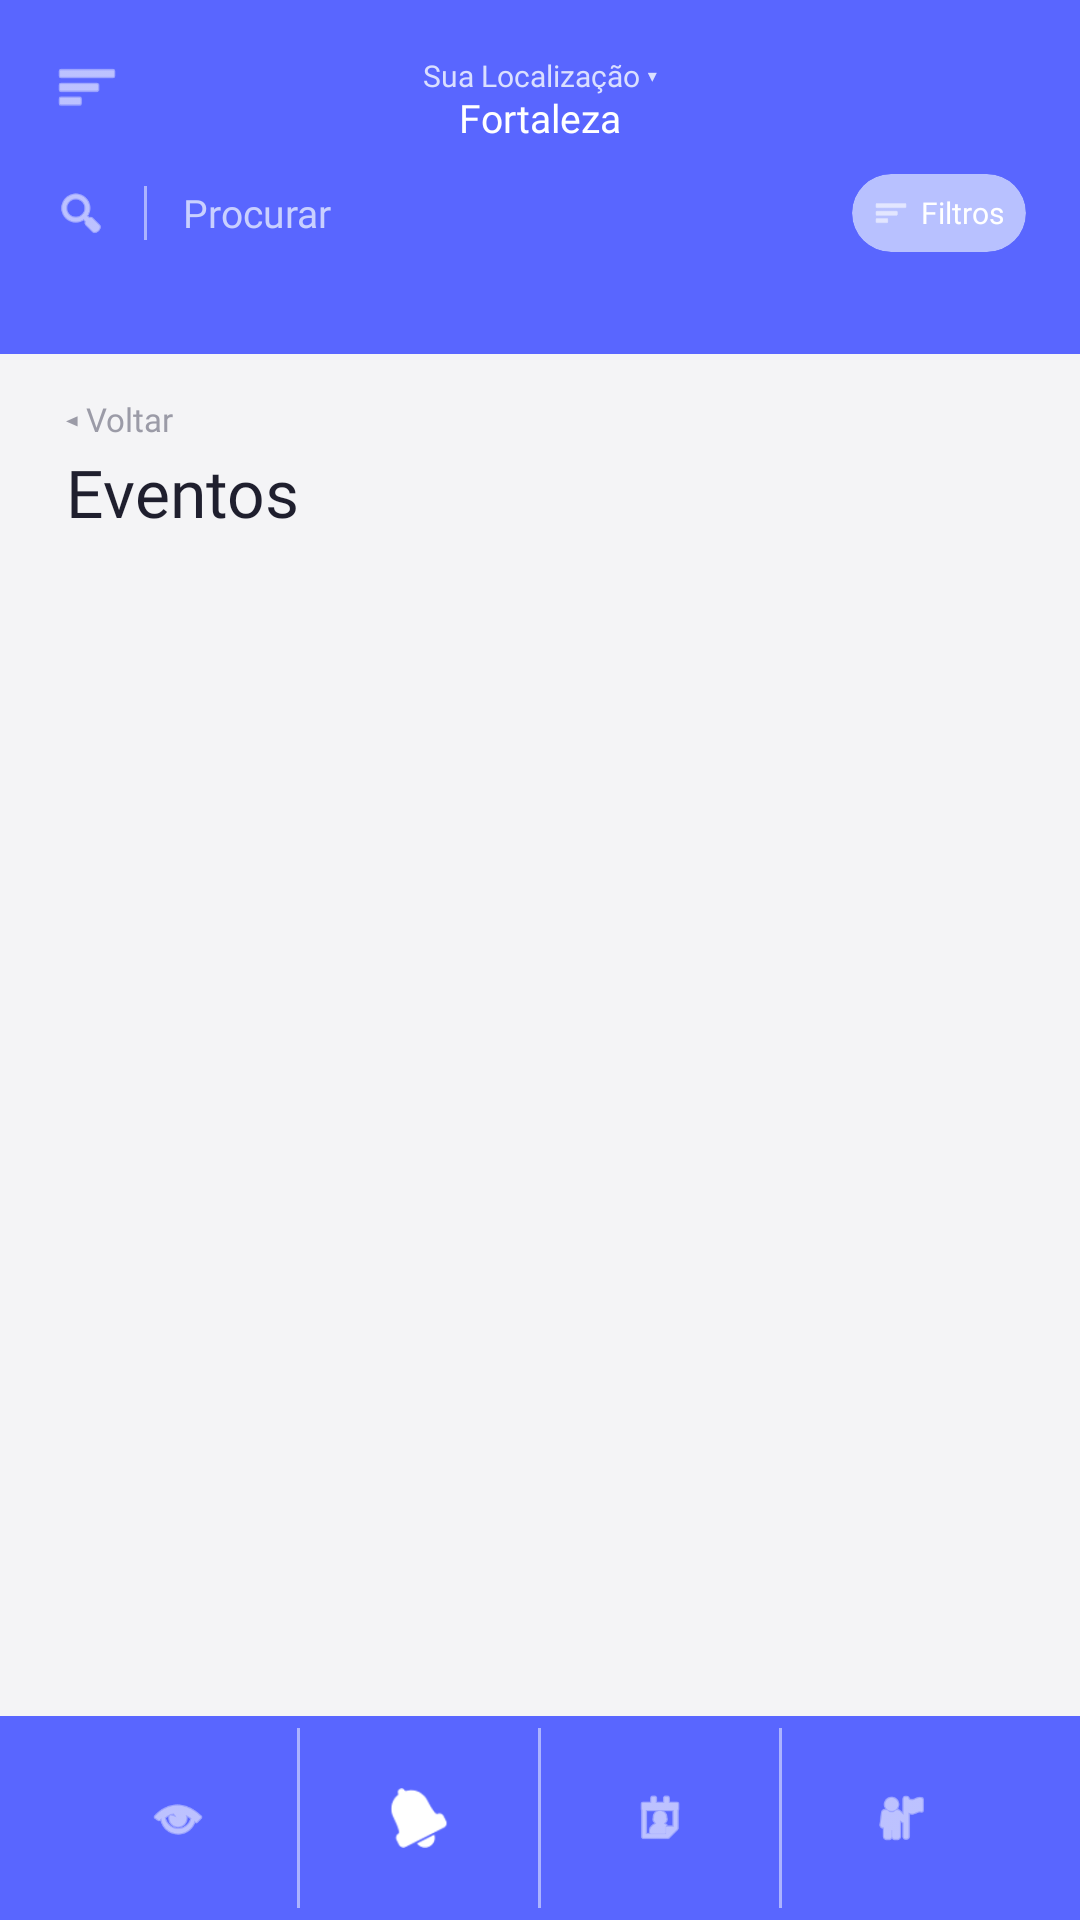

Icon bounding boxes for this 1080*1920 phone screenshot, format {"left": x1, "top": y1, "right": x2, "bottom": y2}:
Calendário: {"left": 641, "top": 1795, "right": 679, "bottom": 1839}
Menu: {"left": 59, "top": 69, "right": 115, "bottom": 106}
Pesquisar: {"left": 61, "top": 193, "right": 101, "bottom": 233}
popup reminder: {"left": 391, "top": 1788, "right": 447, "bottom": 1848}
view: {"left": 154, "top": 1804, "right": 202, "bottom": 1835}
